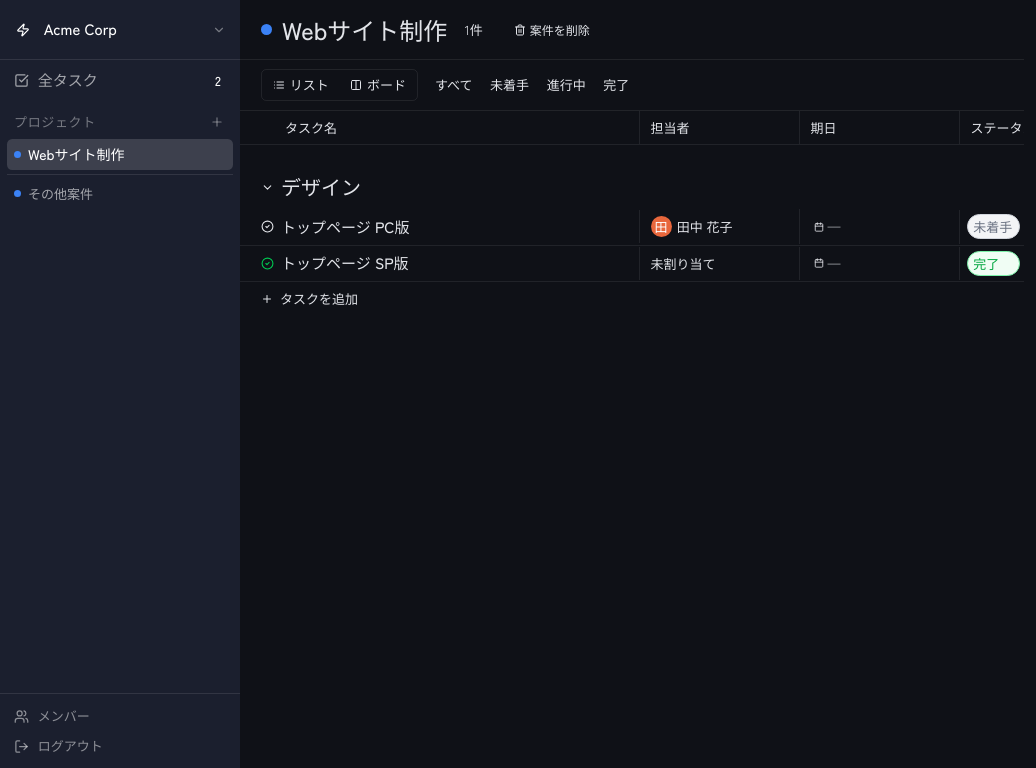
Test case: App の主要操作 › 完了チェックでステータスが done になり、変えた列だけ保存される
Check: the heading "Webサイト制作" is shown, box [282,12,447,48]
Click the button named "完了にする" at (268, 227), box [261,220,274,233]
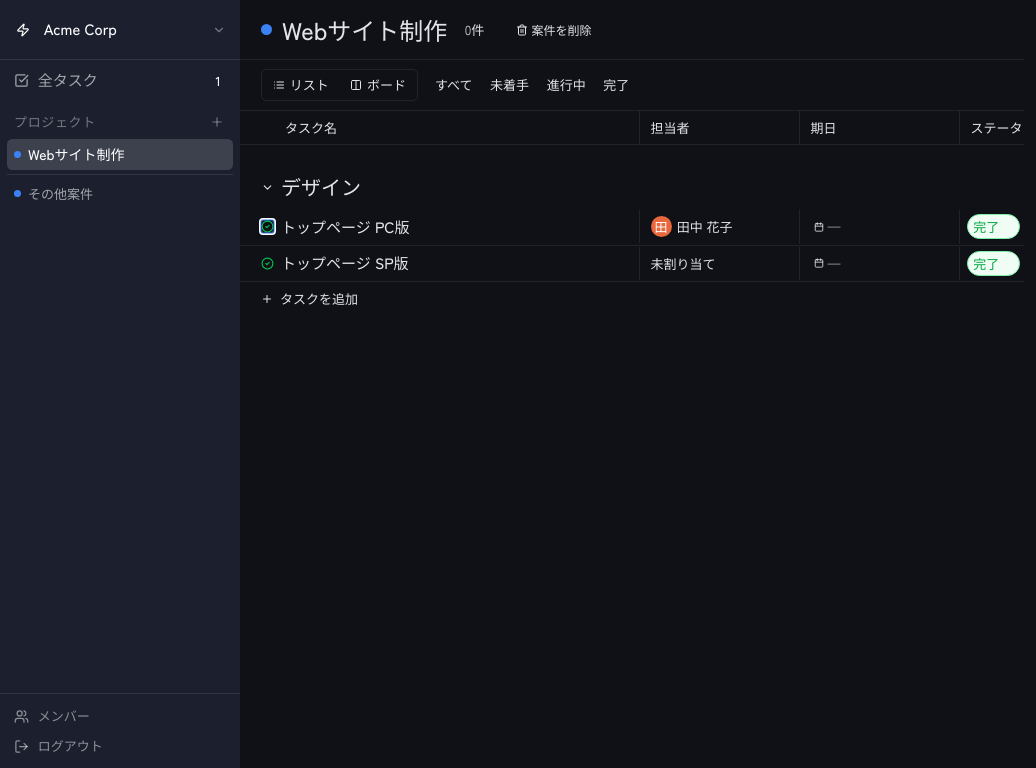
Check: the button named "未着手に戻す" next to "トップページ PC版" is shown, box [261,220,274,233]
